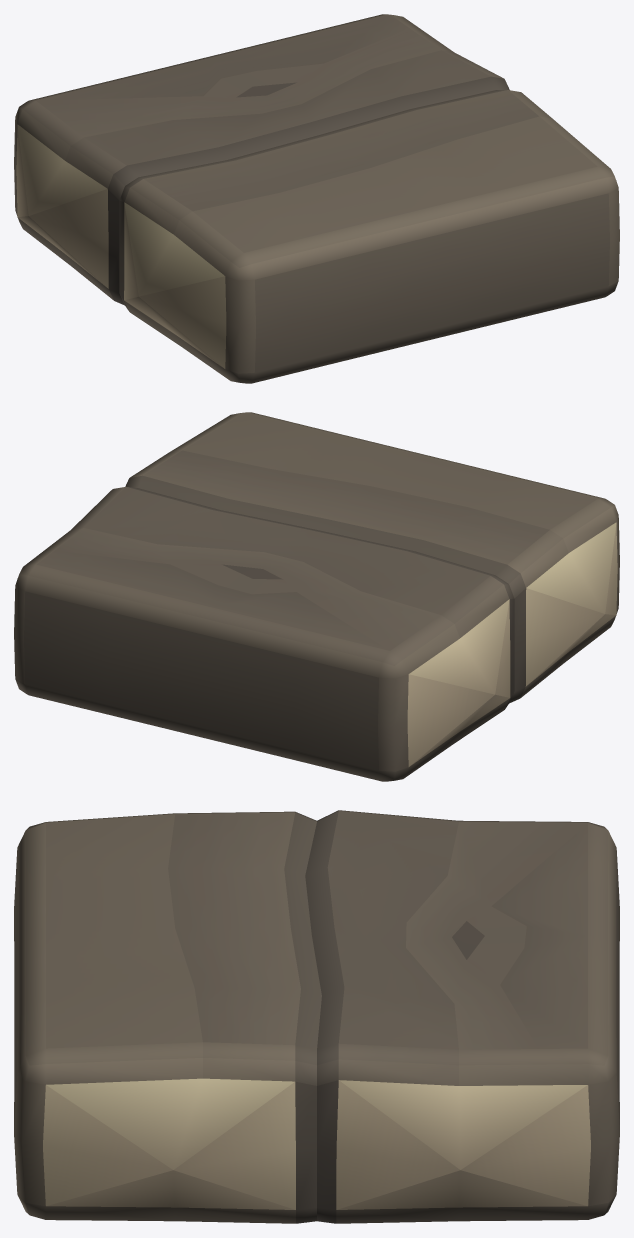
The model's file is DryWood_Bridge.fbx.
The picture shows the model from 3 angles, top to bottom: view 1: azimuth 30°, elevation 25°; view 2: azimuth 150°, elevation 25°; view 3: azimuth 270°, elevation 25°; orthographic projection. The views are drawn at different scales.
Parts seen in each view (by area): view 1: DryWood_Bridge_LOD0; view 2: DryWood_Bridge_LOD0; view 3: DryWood_Bridge_LOD0.
Boxes of the visible parts, bbox=[...] form: DryWood_Bridge_LOD0: bbox=[14, 14, 619, 383]; DryWood_Bridge_LOD0: bbox=[14, 412, 619, 781]; DryWood_Bridge_LOD0: bbox=[14, 810, 619, 1223].
Size of what is drawn, in the model's own units: 1.31 by 0.3664 by 1.13.
